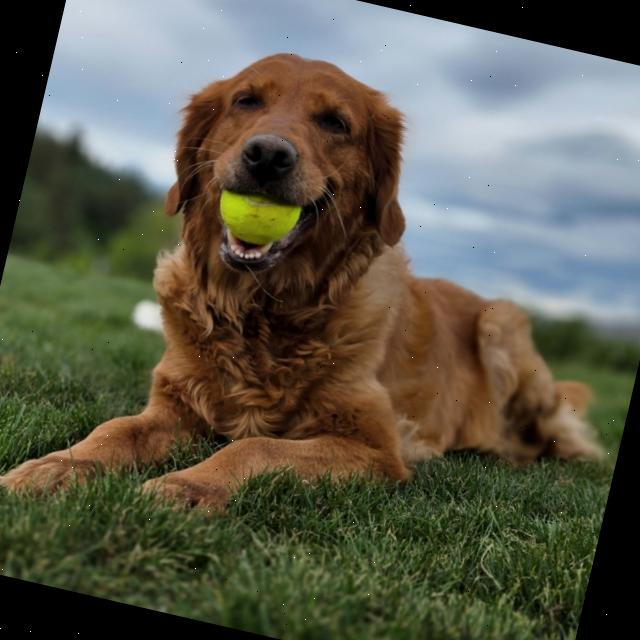golden_retriever_dog: (116, 20, 452, 372)
